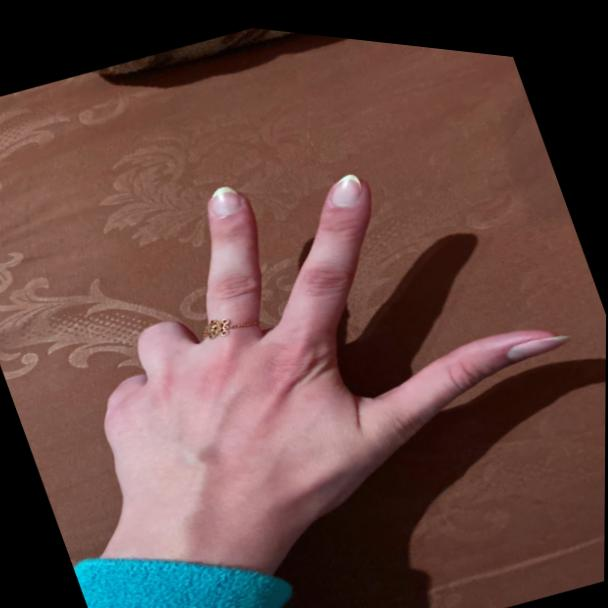three: (0, 52, 608, 608)
